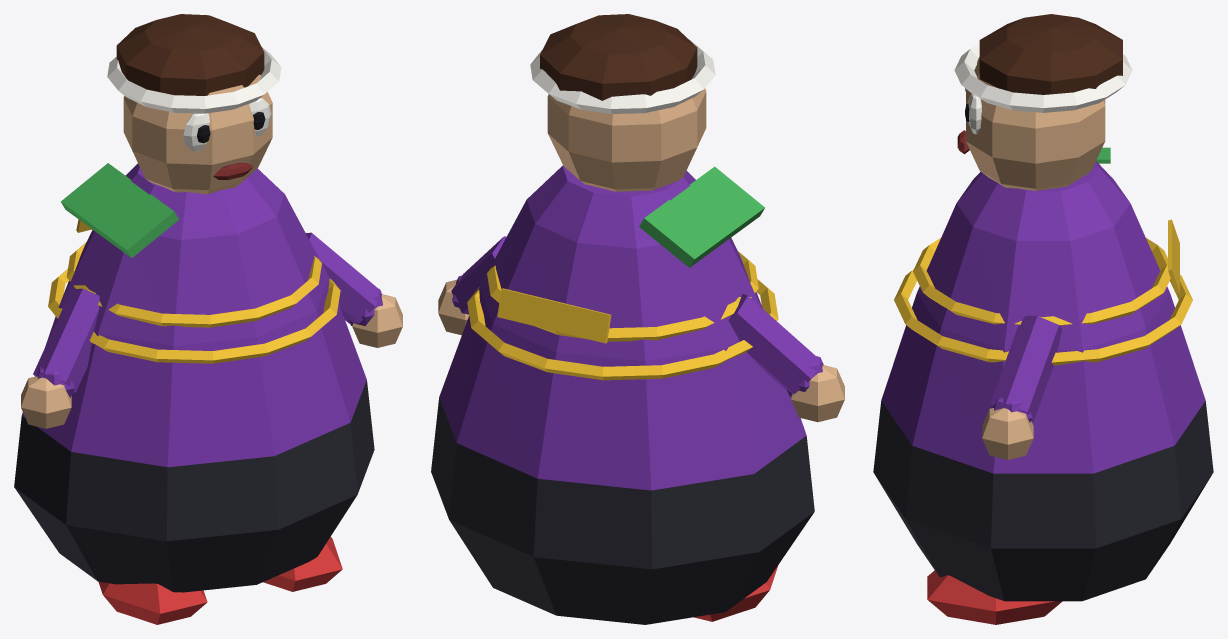
File: npc_bowler.glb
The picture shows the model from 3 angles, left to right: view 1: azimuth 30°, elevation 25°; view 2: azimuth 150°, elevation 25°; view 3: azimuth 270°, elevation 25°; orthographic projection. The views are drawn at different scales.
Parts seen in each view (by area): view 1: body_npc_bowler_shirt, body_league_pants, hair_npc_bowler_hair, head_npc_bowler_skin, stripe_league_stripe, arms_npc_bowler_shirt, towel_towel, legs_rental_shoes, arms_npc_bowler_skin, band_sweatband, face_white; view 2: body_npc_bowler_shirt, body_league_pants, head_npc_bowler_skin, stripe_league_stripe, hair_npc_bowler_hair, towel_towel, arms_npc_bowler_shirt, band_sweatband, arms_npc_bowler_skin, legs_rental_shoes; view 3: body_npc_bowler_shirt, body_league_pants, head_npc_bowler_skin, hair_npc_bowler_hair, stripe_league_stripe, arms_npc_bowler_shirt, band_sweatband, legs_rental_shoes, arms_npc_bowler_skin.
Boxes of the visible parts, x1=… form: body_npc_bowler_shirt: x1=22, y1=163, x2=366, y2=467; body_league_pants: x1=14, y1=380, x2=374, y2=592; hair_npc_bowler_hair: x1=116, y1=14, x2=264, y2=95; head_npc_bowler_skin: x1=123, y1=74, x2=272, y2=194; stripe_league_stripe: x1=48, y1=219, x2=340, y2=363; arms_npc_bowler_shirt: x1=33, y1=232, x2=382, y2=397; towel_towel: x1=60, y1=163, x2=178, y2=257; legs_rental_shoes: x1=98, y1=537, x2=342, y2=624; arms_npc_bowler_skin: x1=21, y1=294, x2=402, y2=428; band_sweatband: x1=107, y1=47, x2=281, y2=113; face_white: x1=183, y1=98, x2=271, y2=151; body_npc_bowler_shirt: x1=439, y1=165, x2=806, y2=490; body_league_pants: x1=431, y1=397, x2=814, y2=624; head_npc_bowler_skin: x1=547, y1=88, x2=706, y2=191; stripe_league_stripe: x1=467, y1=250, x2=778, y2=380; hair_npc_bowler_hair: x1=540, y1=14, x2=697, y2=100; towel_towel: x1=639, y1=166, x2=764, y2=267; arms_npc_bowler_shirt: x1=451, y1=236, x2=823, y2=396; band_sweatband: x1=530, y1=39, x2=715, y2=113; arms_npc_bowler_skin: x1=438, y1=279, x2=844, y2=422; legs_rental_shoes: x1=694, y1=565, x2=778, y2=621; body_npc_bowler_shirt: x1=881, y1=161, x2=1205, y2=473; body_league_pants: x1=873, y1=401, x2=1213, y2=601; head_npc_bowler_skin: x1=966, y1=57, x2=1105, y2=190; hair_npc_bowler_hair: x1=979, y1=14, x2=1122, y2=94; stripe_league_stripe: x1=894, y1=219, x2=1192, y2=365; arms_npc_bowler_shirt: x1=990, y1=316, x2=1062, y2=422; band_sweatband: x1=954, y1=43, x2=1132, y2=112; legs_rental_shoes: x1=927, y1=570, x2=1062, y2=624; arms_npc_bowler_skin: x1=982, y1=408, x2=1033, y2=459.
Bounding box in the file's own units: 1.13 × 1.55 × 0.86.
